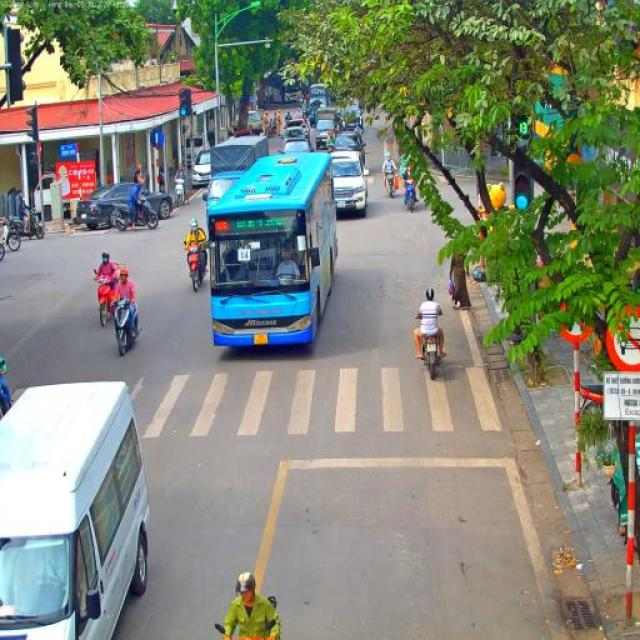bus: (0, 380, 150, 640), (205, 152, 340, 354)
car: (76, 182, 173, 229), (327, 152, 369, 216), (332, 131, 367, 173), (192, 151, 212, 188), (340, 105, 364, 134), (278, 139, 312, 156), (283, 126, 308, 144), (283, 119, 305, 133)
motorcycle: (215, 595, 279, 640), (110, 194, 160, 232), (114, 298, 141, 357), (93, 268, 118, 327), (419, 322, 443, 381), (184, 239, 208, 292), (15, 204, 45, 240), (0, 219, 21, 251), (403, 178, 418, 212), (0, 382, 12, 419), (384, 168, 396, 200), (174, 178, 186, 206), (302, 125, 310, 145), (0, 235, 5, 261), (300, 108, 308, 122), (352, 127, 362, 137), (327, 144, 334, 156), (300, 117, 306, 128)
truck: (203, 135, 271, 217), (311, 107, 338, 149), (307, 83, 328, 125), (282, 68, 302, 104), (243, 111, 263, 137)
